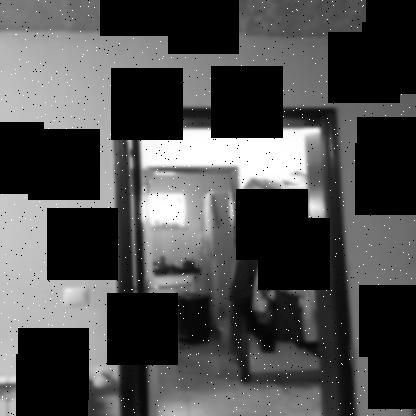Porte: (111, 106, 361, 415), (144, 165, 254, 386)
